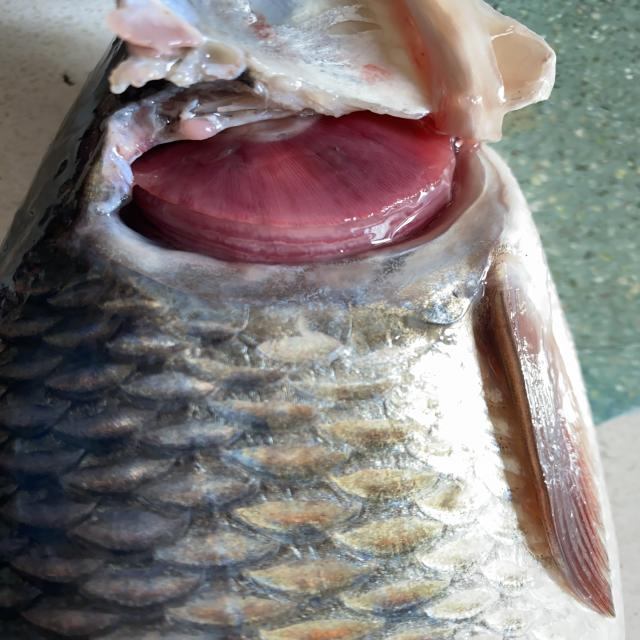Fresh: (87, 78, 503, 280)
